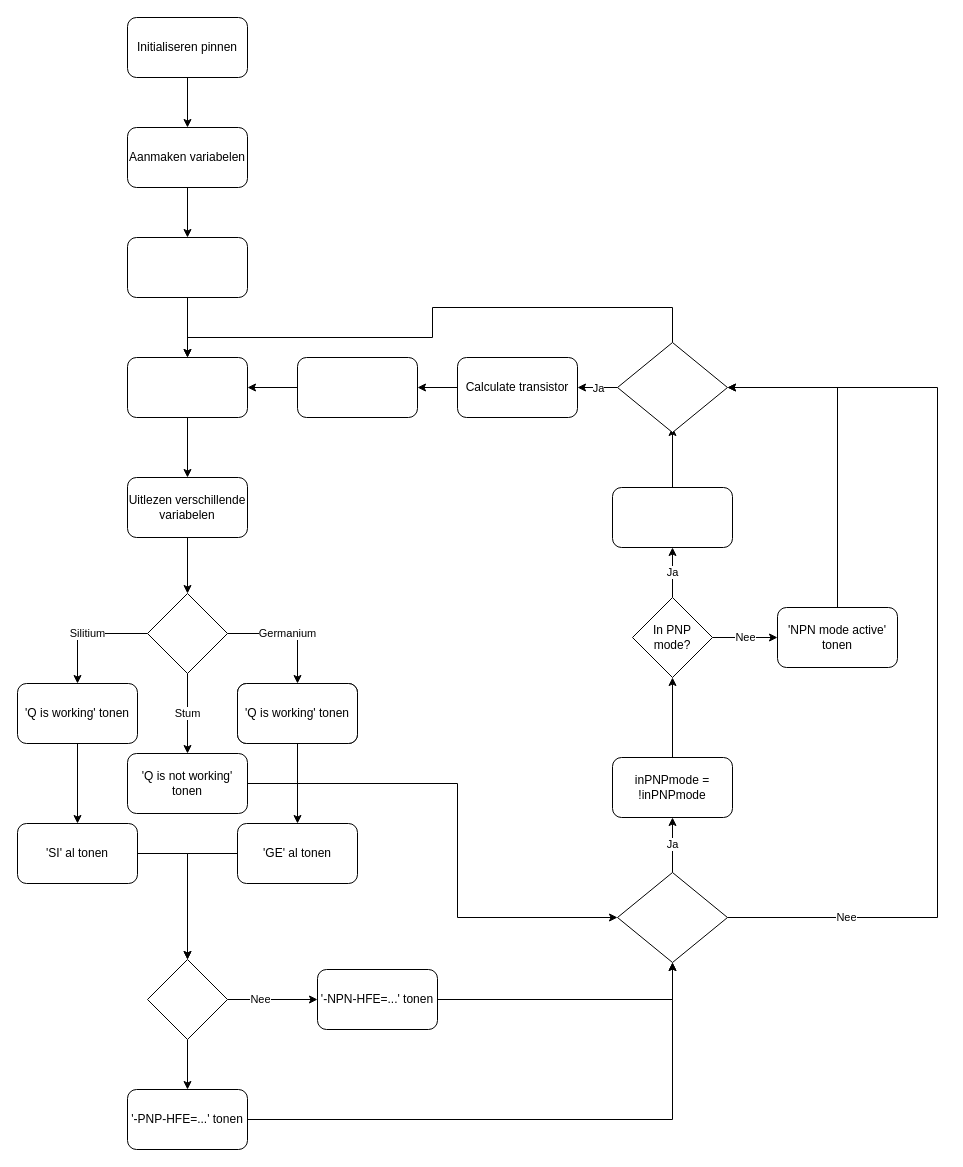
This 963x1167 diagram has some shape labels left out. The centre of each missing label's shape, as x and y in pixels:
"'PNP mode active' tonen" belongs at [672,517].
"'Ube=...' tonen" belongs at [357,387].
"Gedrukt op capacitieve sensor v1?" belongs at [672,387].
"Gedrukt op capacitieve sensor v?" belongs at [672,917].
"In PNPMode?" belongs at [187,999].
"Loop" belongs at [187,387].
"Setup" belongs at [187,267].
"Silicium, Germanium of stuk?" belongs at [187,633].
